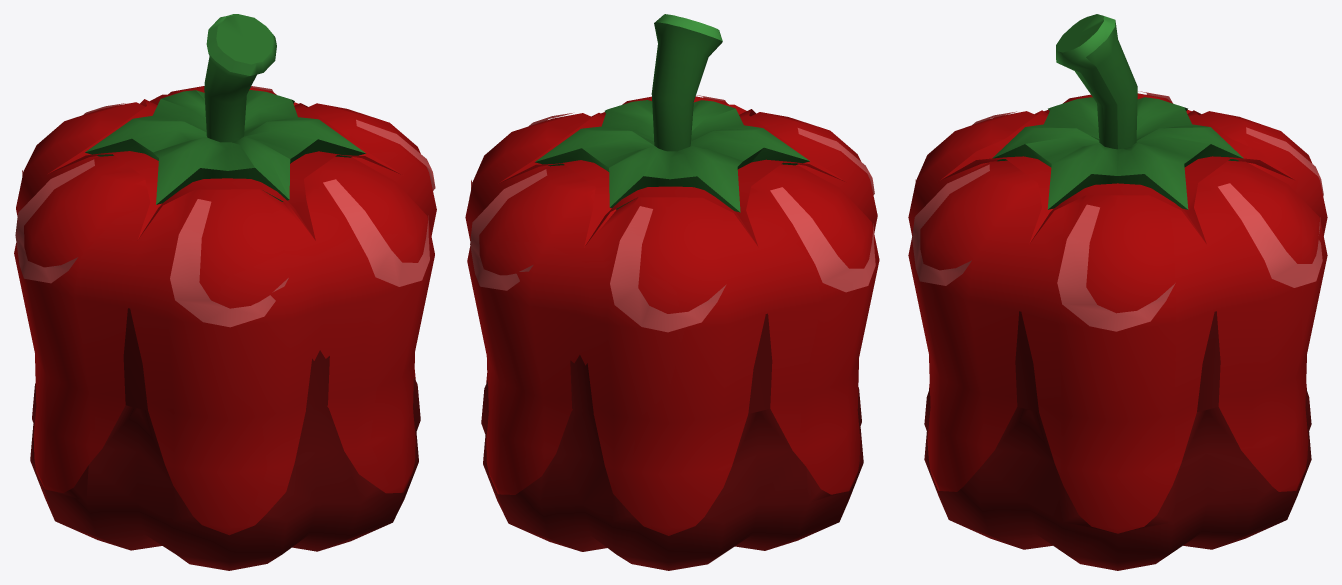
Rendered from Pepper.fbx.
The picture shows the model from 3 angles, left to right: view 1: azimuth 30°, elevation 25°; view 2: azimuth 150°, elevation 25°; view 3: azimuth 270°, elevation 25°; orthographic projection. The views are drawn at different scales.
Visible parts, largest first — view 1: Pepper; view 2: Pepper; view 3: Pepper.
Boxes of the visible parts, bbox=[...] form: Pepper: bbox=[14, 14, 436, 570]; Pepper: bbox=[465, 14, 879, 570]; Pepper: bbox=[908, 14, 1327, 570].
Size of the model in its own units: 3.03 by 3.75 by 2.79.
